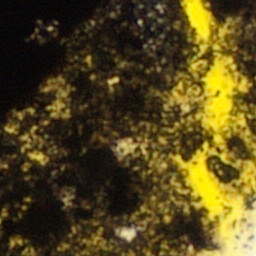cement_matrix: (0, 0, 214, 255), (205, 0, 255, 144), (209, 131, 254, 184), (119, 227, 136, 240), (118, 140, 135, 153)
cracks: (171, 0, 255, 255), (208, 130, 255, 185)
gravel_crushed_stones: (226, 213, 255, 255), (120, 228, 135, 239), (119, 141, 134, 152)
